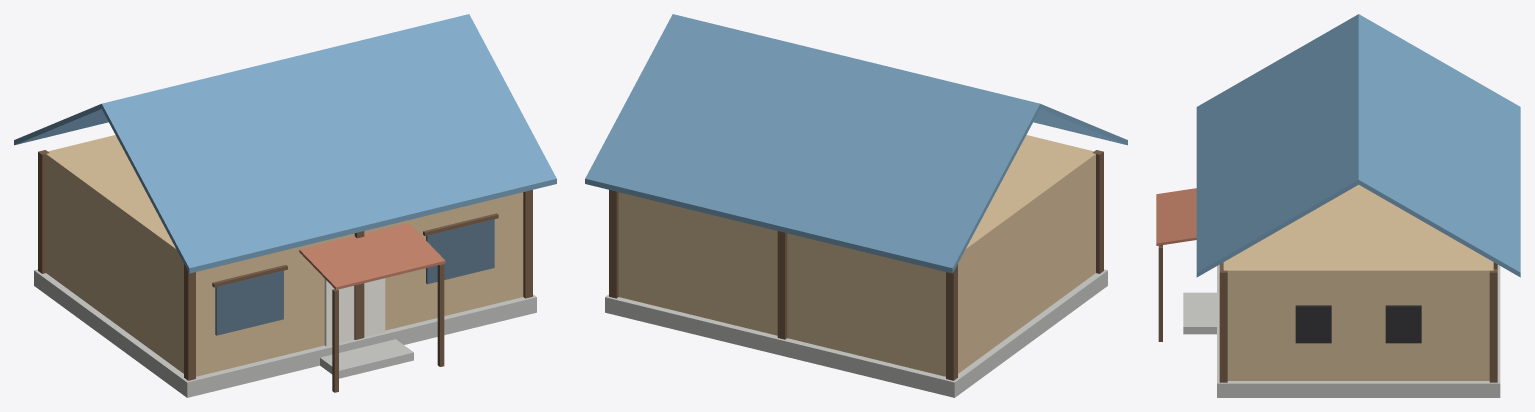
File: minka.glb
3 views of the same model, side by side, from view 1: azimuth 30°, elevation 25°; view 2: azimuth 150°, elevation 25°; view 3: azimuth 270°, elevation 25° (orthographic). The views are drawn at different scales.
Visible parts, largest first — view 1: minka; view 2: minka; view 3: minka.
Boxes of the visible parts, x1,y1,x2,y2 form: minka: (14,14,556,397); minka: (585,14,1127,397); minka: (1156,14,1520,397).
Bounding box in the file's own units: 8.72 × 5.45 × 8.1.
